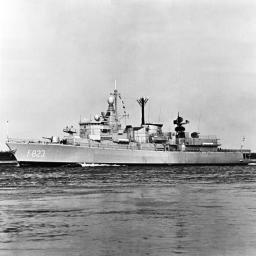Fragata: (4, 76, 254, 173)
